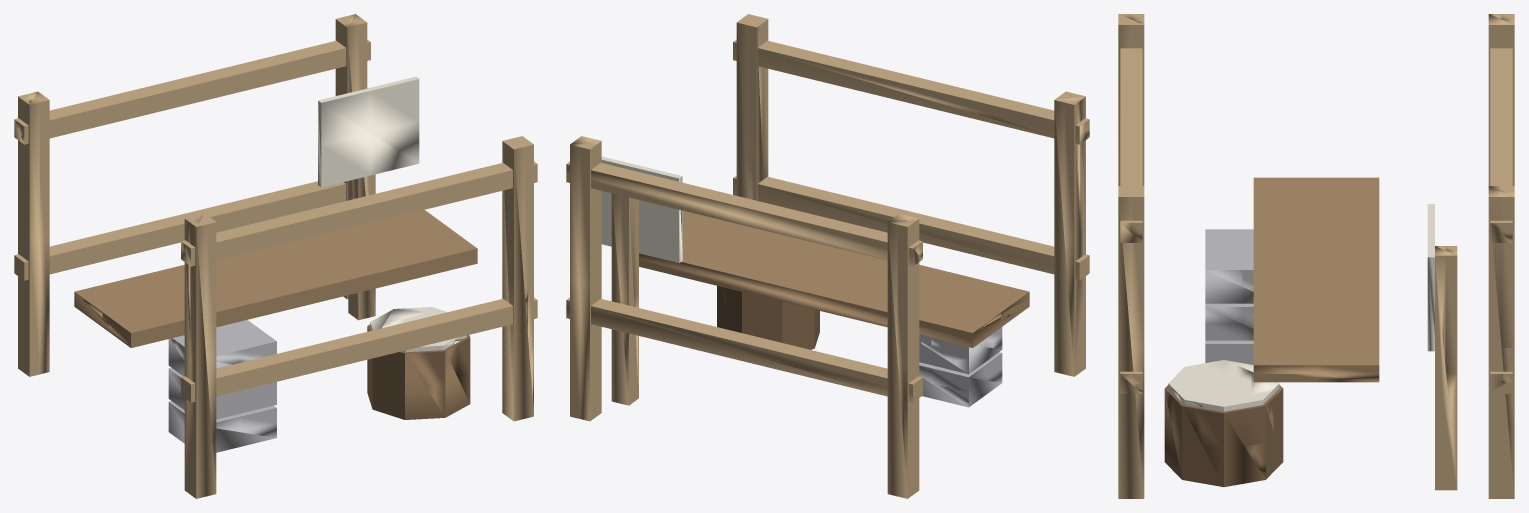
File: construction.glb
3 renders of one model, left to right at view 1: azimuth 30°, elevation 25°; view 2: azimuth 150°, elevation 25°; view 3: azimuth 270°, elevation 25°, orthographic. The views are drawn at different scales.
Parts seen in each view (by area): view 1: ScaffoldPost-0.55-0.5; view 2: ScaffoldPost-0.55-0.5; view 3: ScaffoldPost-0.55-0.5.
Boxes of the visible parts, x1,y1,x2,y2 form: ScaffoldPost-0.55-0.5: [14, 14, 537, 498]; ScaffoldPost-0.55-0.5: [566, 14, 1089, 498]; ScaffoldPost-0.55-0.5: [1118, 14, 1514, 498].
Bounding box in the file's own units: 1.27 × 0.9 × 1.07.
